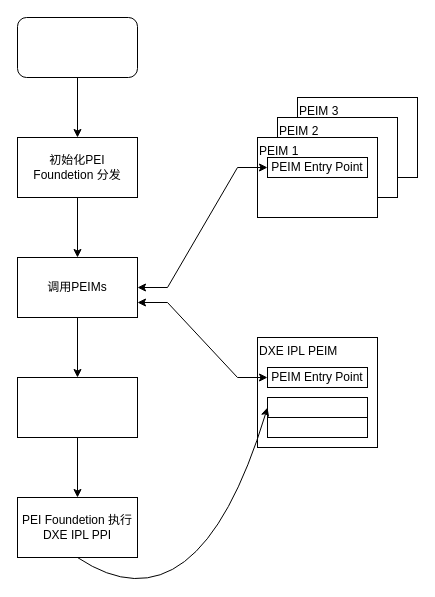
Some shapes in this 435 by 597 pixel diagram are drawn without their labels. Each missing label, with the centre of its shape:
"DXE IPL PPI" belongs at [317,407].
"Load/Start DXE" belongs at [317,427].
"PEI 开始" belongs at [77,47].
"准备状态 移交数据 至 DXE IPL PPI" belongs at [77,407].
